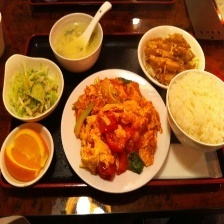rice: (164, 69, 224, 149)
